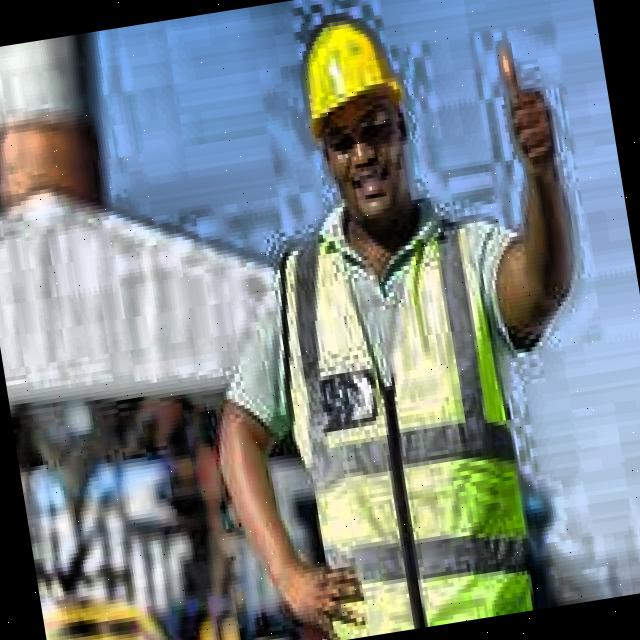helmet: (278, 0, 440, 259)
